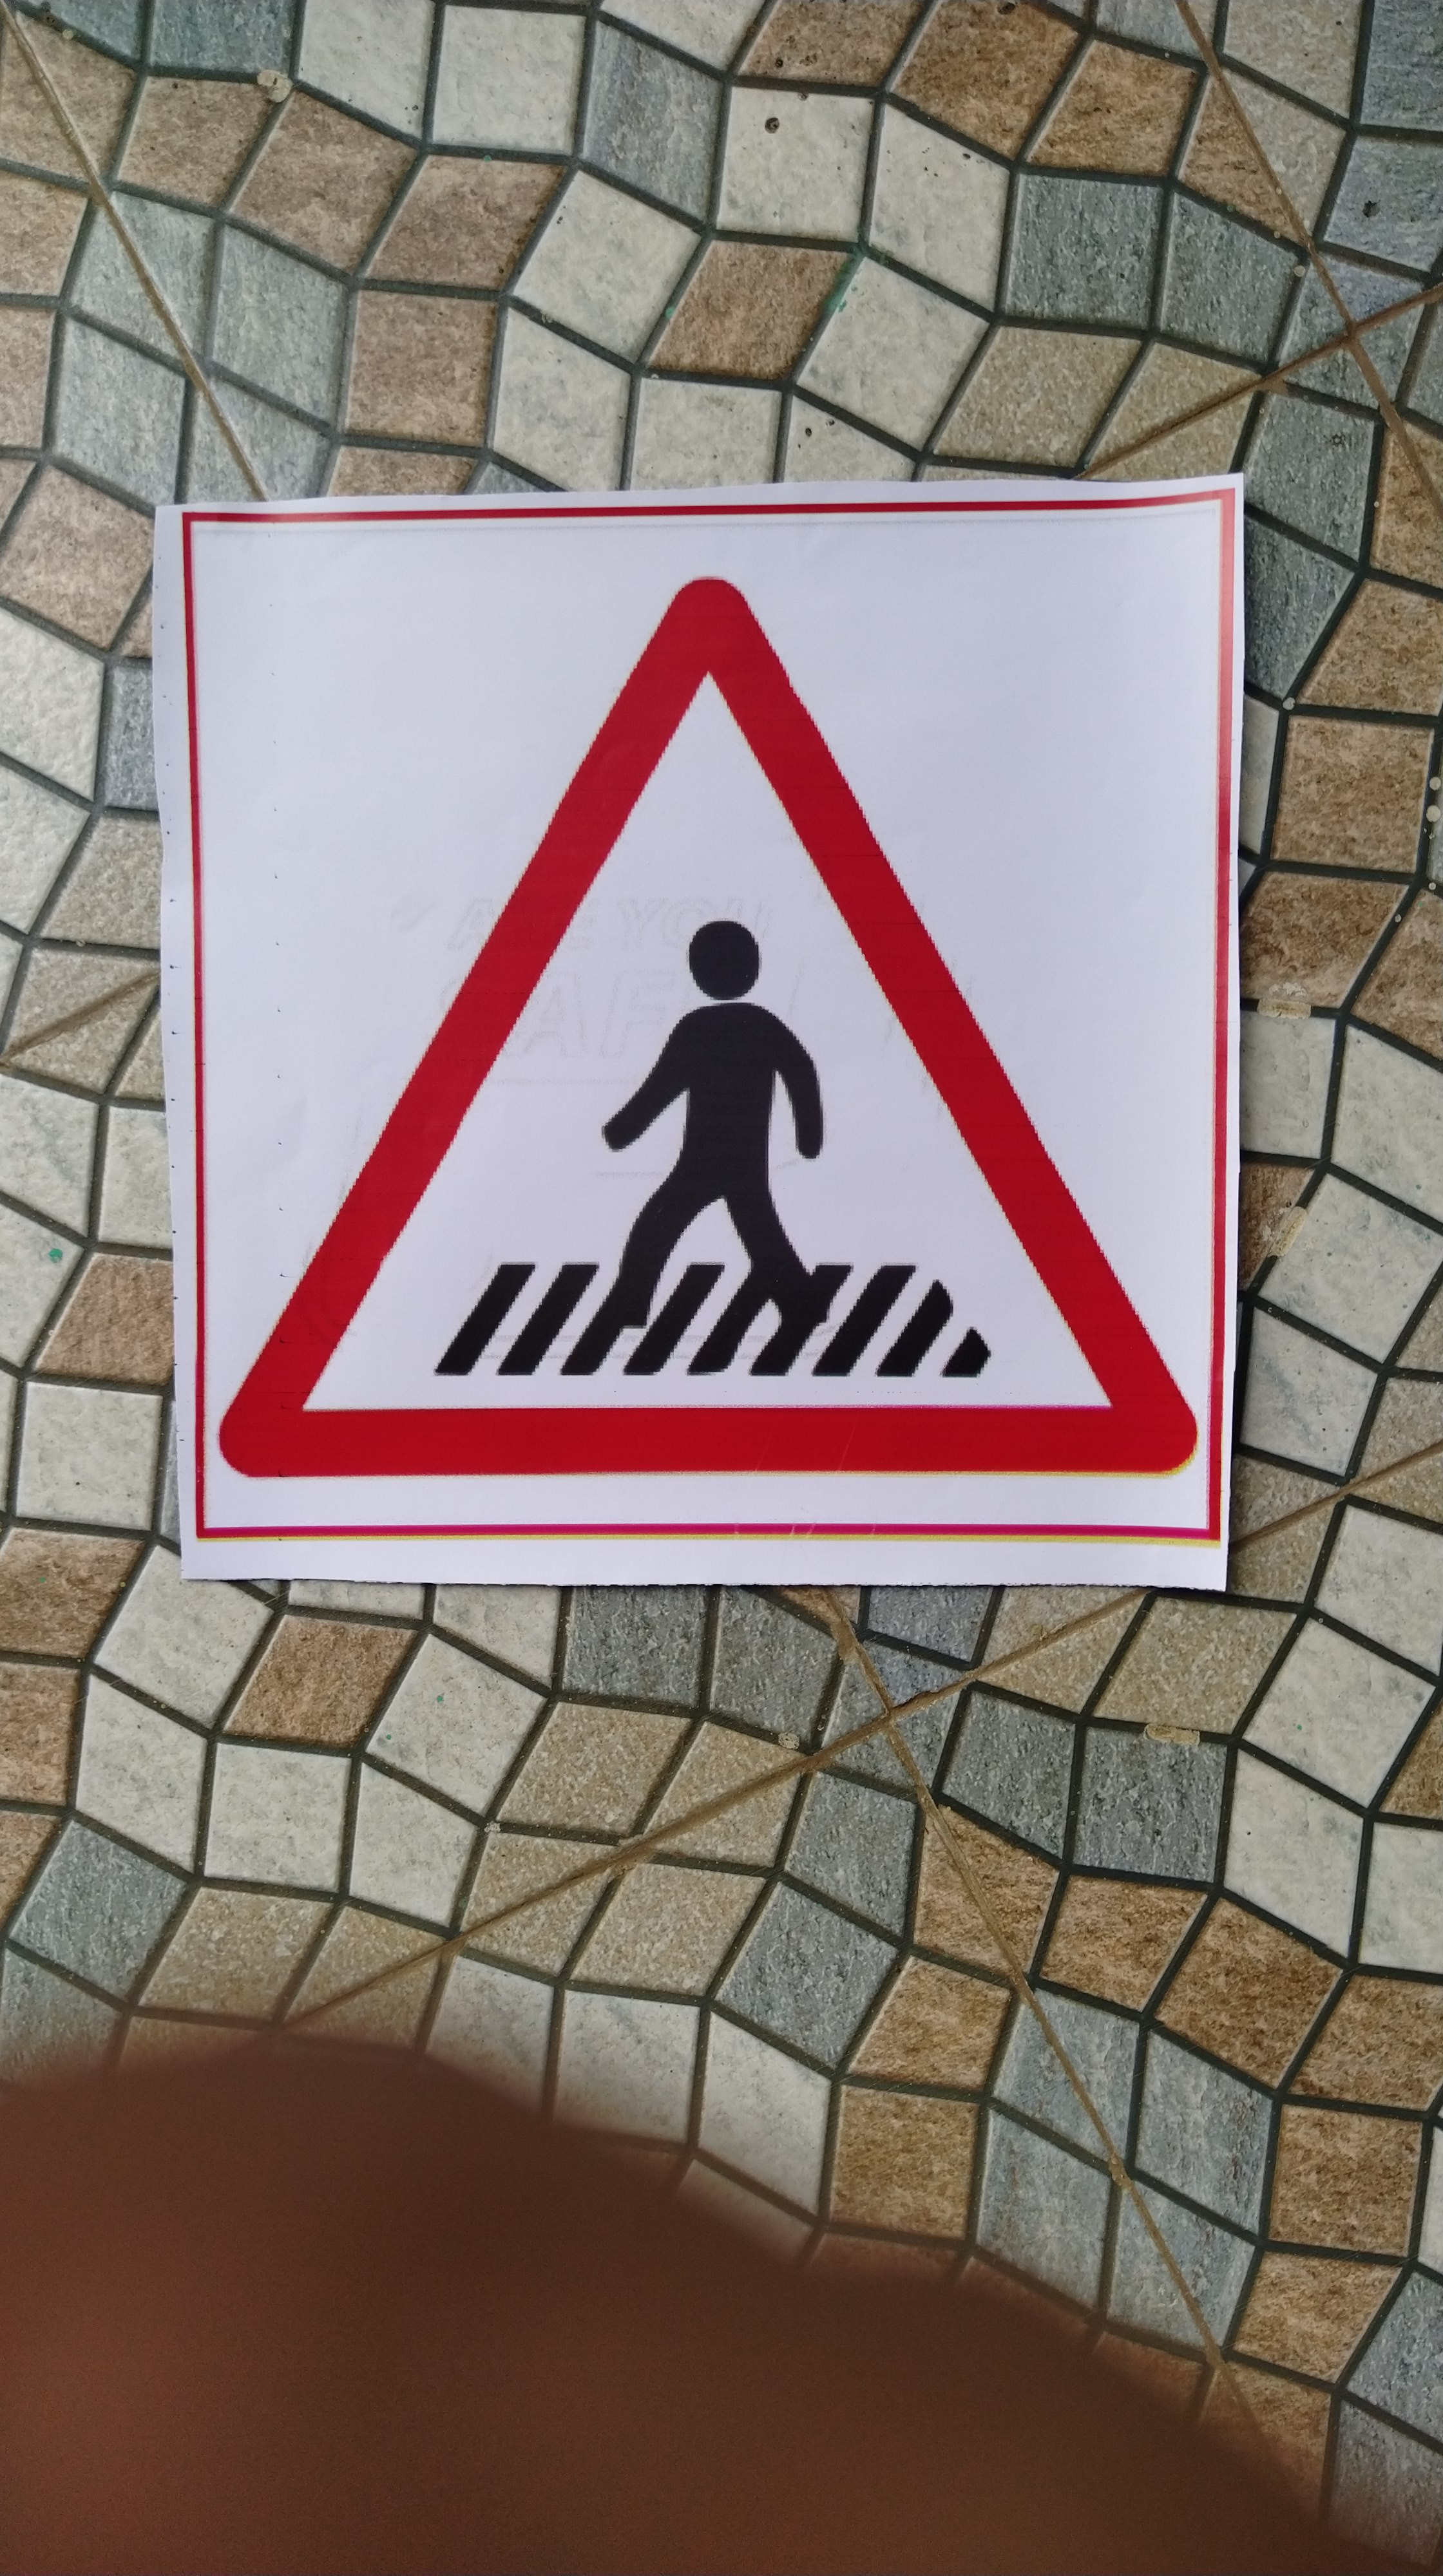pedestrain crossing: (202, 559, 1200, 1591)
